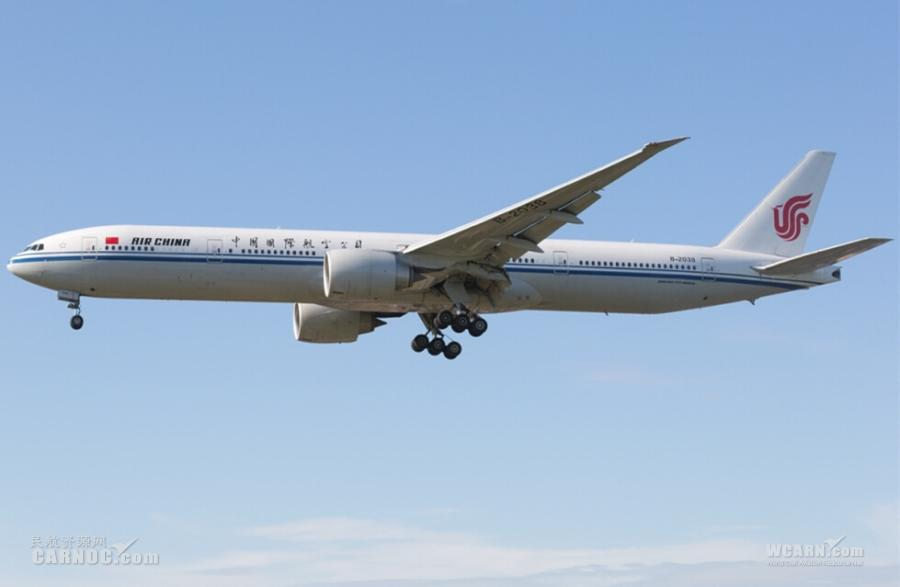airplane: (5, 134, 899, 362)
